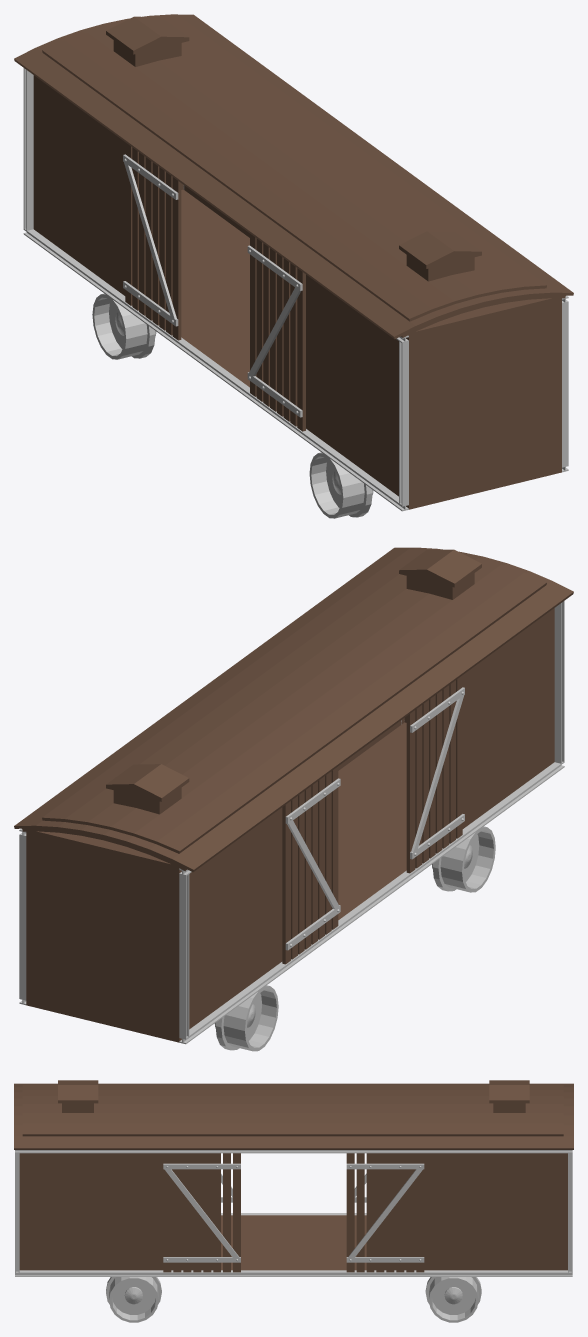
The model's file is Train_Wagon2.obj.
3 views of the same model, one above another, from view 1: azimuth 30°, elevation 25°; view 2: azimuth 150°, elevation 25°; view 3: azimuth 270°, elevation 25° (orthographic). The views are drawn at different scales.
Visible parts, largest first — view 1: object_92, object_21, object_1, object_28, object_91, object_30, object_32, object_27, object_26, object_34, object_9, object_22 (+16 smaller); view 2: object_92, object_21, object_1, object_28, object_91, object_30, object_32, object_27, object_26, object_2, object_41, object_23 (+16 smaller); view 3: object_21, object_92, object_1, object_24, object_25, object_33, object_31, object_91, object_72, object_79, object_60, object_76 (+21 smaller).
Part boxes in pixels (x1,y1,x2,y2): object_92: [14, 14, 573, 339]; object_21: [33, 75, 561, 509]; object_1: [181, 189, 561, 509]; object_28: [23, 228, 408, 511]; object_91: [106, 16, 189, 66]; object_30: [309, 452, 373, 518]; object_32: [92, 293, 156, 359]; object_27: [23, 68, 33, 230]; object_26: [399, 341, 408, 505]; object_34: [172, 177, 181, 340]; object_9: [297, 268, 305, 431]; object_22: [562, 303, 568, 466]; object_92: [14, 547, 573, 872]; object_21: [26, 608, 554, 1041]; object_1: [26, 722, 406, 1042]; object_28: [179, 761, 564, 1044]; object_91: [106, 764, 189, 814]; object_30: [432, 826, 495, 892]; object_32: [214, 985, 278, 1051]; object_27: [179, 874, 189, 1038]; object_26: [554, 601, 564, 763]; object_2: [406, 710, 415, 873]; object_41: [282, 801, 290, 964]; object_23: [19, 835, 26, 999]; object_21: [19, 1153, 567, 1270]; object_92: [14, 1080, 573, 1149]; object_1: [221, 1215, 366, 1270]; object_24: [15, 1270, 572, 1276]; object_25: [15, 1150, 572, 1153]; object_33: [425, 1277, 481, 1322]; object_31: [106, 1277, 161, 1322]; object_91: [489, 1080, 529, 1112]; object_72: [346, 1153, 354, 1272]; object_79: [416, 1153, 424, 1272]; object_60: [163, 1153, 171, 1272]; object_76: [386, 1153, 394, 1272].
Bounding box in the file's own units: 3.84 × 5.87 × 14.06.
